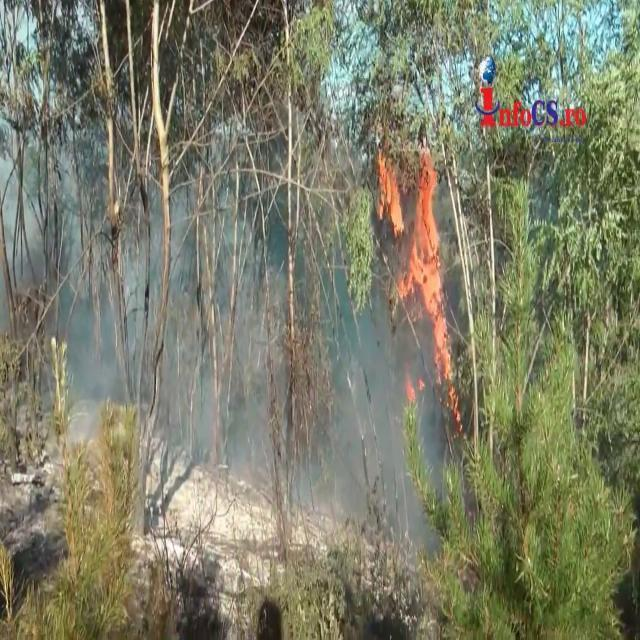Fire: (400, 156, 456, 404), (376, 146, 404, 242)
Smoke: (52, 165, 288, 504), (304, 275, 456, 563)
